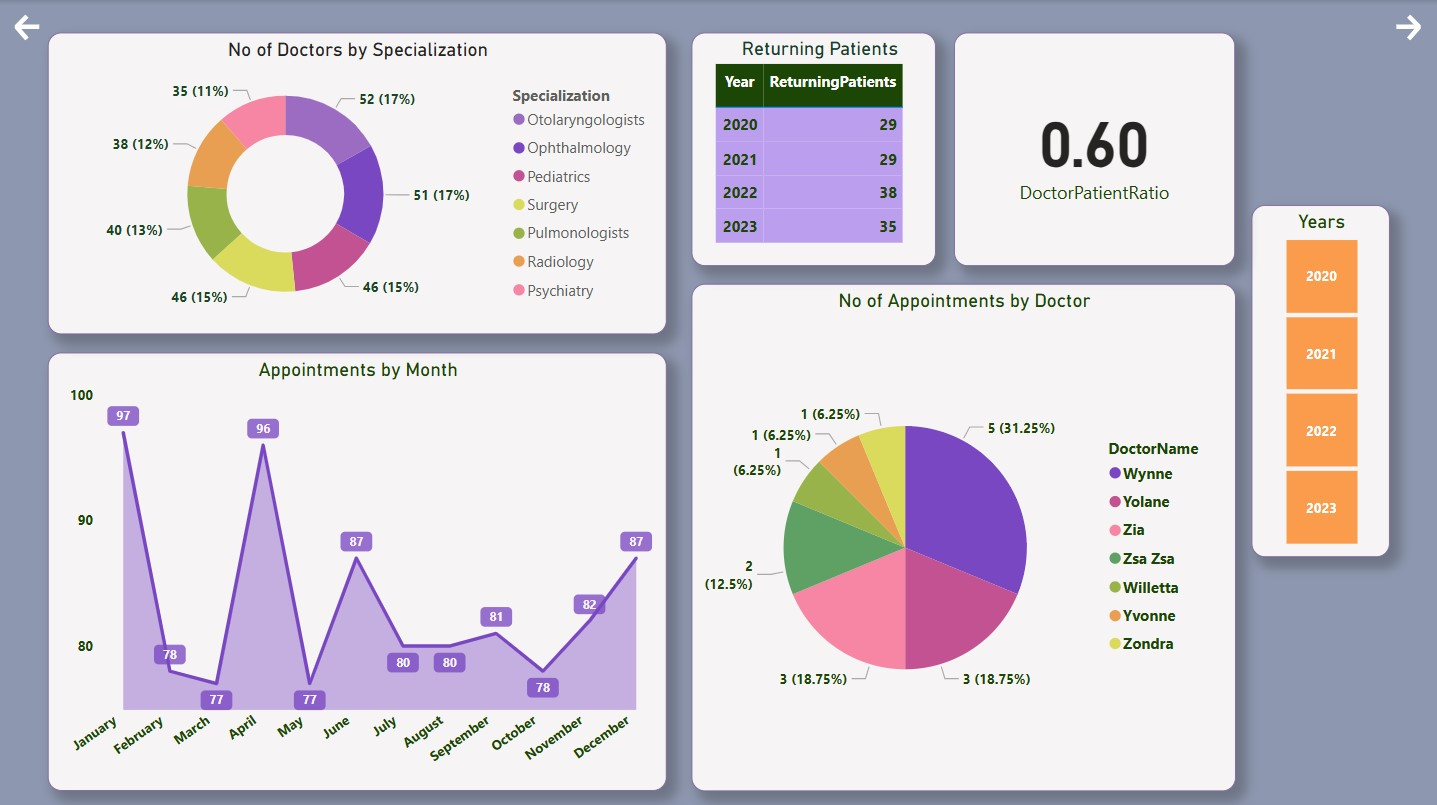

This screenshot's page, from the dashboard's own definition file:
{"tool":"powerbi","page":{"name":"Doctor & Appointment","canvas":[1280,720],"ordinal":3},"visuals":[{"type":"lineChart","title":"Appointments by Month","fields":{"Category":["Appointment.Date.Variation.Date Hierarchy.Month"],"Y":["Appointment.AppointmentsByDate"]},"box":[42.9,313.9,551,390.7],"z":0},{"type":"pieChart","title":"No of Appointments by Doctor","fields":{"Category":["Doctor.DoctorName"],"Y":["Appointment.TotalAppointments"]},"box":[616.5,252.9,484.4,451.7],"z":1000},{"type":"tableEx","title":"Returning Patients ","fields":{"Values":["Appointment.Date.Variation.Date Hierarchy.Year","Appointment.ReturningPatients"]},"box":[616.5,29.4,217.9,207.8],"z":2000},{"type":"slicer","title":"Years","fields":{"Values":["Appointment.Date.Variation.Date Hierarchy.Year"]},"box":[1115.6,182.9,123.1,313.9],"z":3000},{"type":"card","fields":{"Values":["Appointment.DoctorPatientRatio"]},"box":[850.3,29.4,250.7,207.8],"z":4000},{"type":"actionButton","box":[253.7,66.3,44.8,49.7],"z":5000},{"type":"actionButton","box":[1239.1,8.4,31.3,31.3],"z":6000},{"type":"donutChart","title":"No of Doctors by Specialization","fields":{"Category":["Doctor.Specialization"],"Y":["Appointment.DocCountBySpl"]},"box":[42.9,29.4,551,268.7],"z":7000},{"type":"actionButton","box":[9.6,8.4,31.3,31.3],"z":8000}]}

Visuals, with their boxes in screenshot pixels (x1, y1, x2, y2), scaled from the page's 1280x720 canvas onto the 1437x805 screenshot:
"Appointments by Month" lineChart: bbox=(48, 351, 667, 788)
"No of Appointments by Doctor" pieChart: bbox=(692, 283, 1236, 788)
"Returning Patients " tableEx: bbox=(692, 33, 937, 265)
"Years" slicer: bbox=(1252, 204, 1391, 555)
card - Appointment.DoctorPatientRatio: bbox=(955, 33, 1236, 265)
actionButton: bbox=(285, 74, 335, 130)
actionButton: bbox=(1391, 9, 1426, 44)
"No of Doctors by Specialization" donutChart: bbox=(48, 33, 667, 333)
actionButton: bbox=(11, 9, 46, 44)
